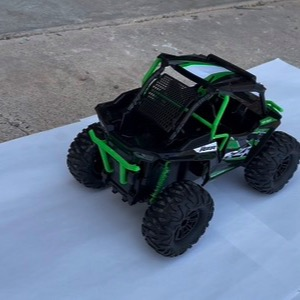polaris: (65, 52, 299, 258)
